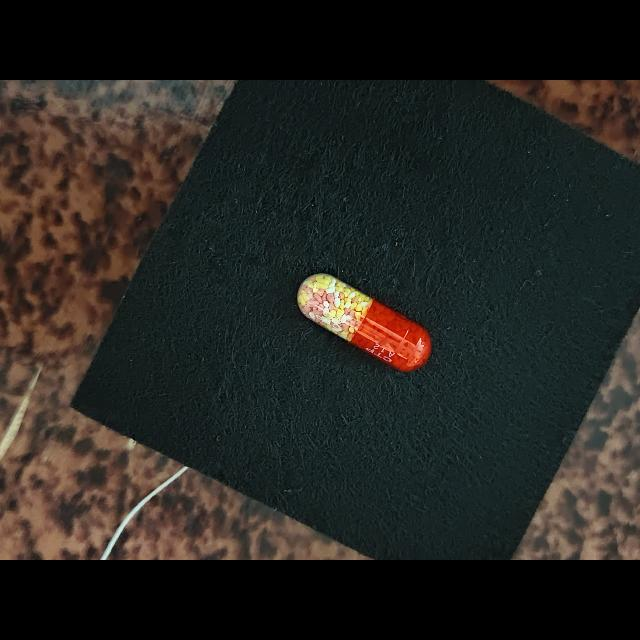Intact Capsule: (297, 273, 431, 372)
